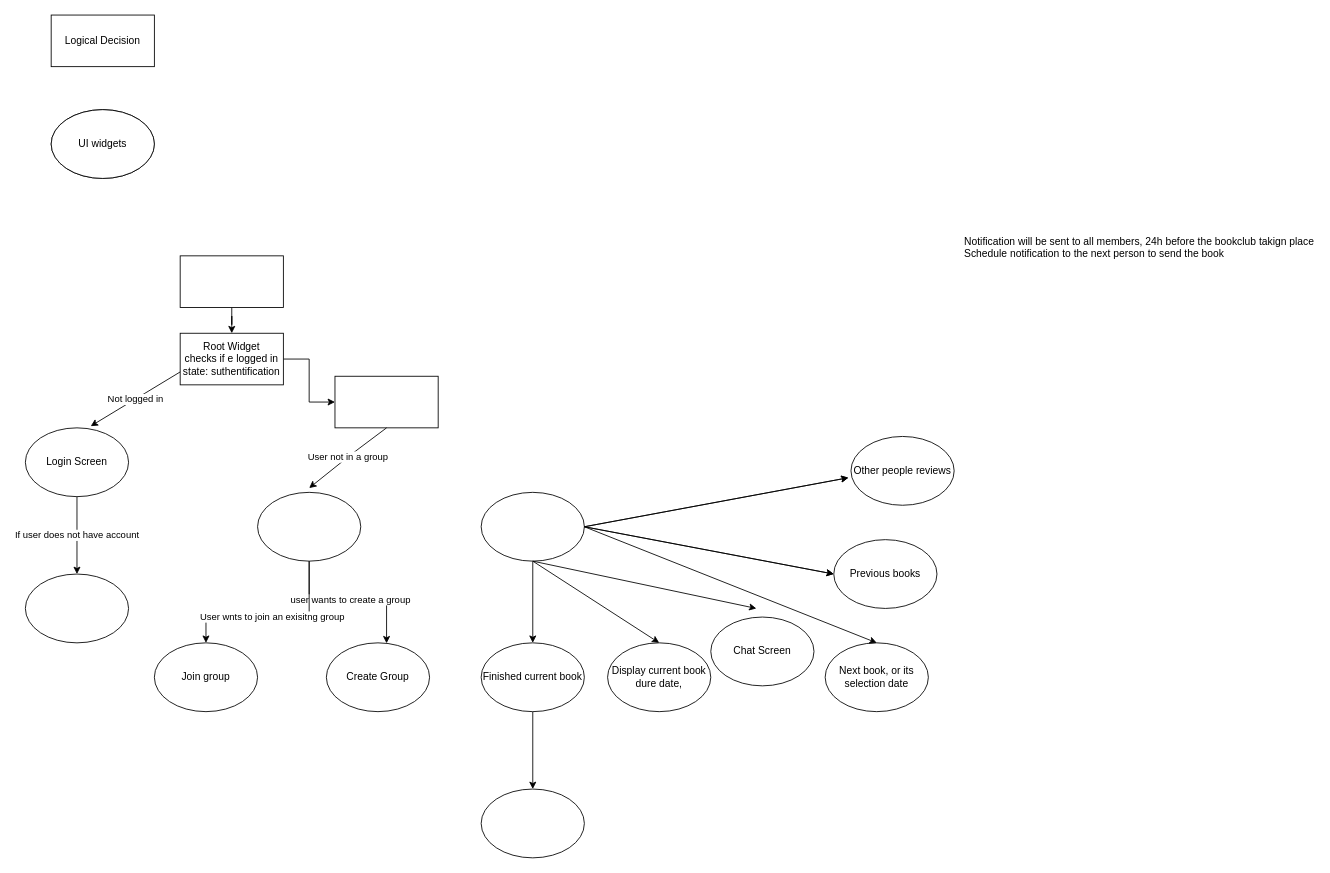
The diagram is 1330 pixels wide and 873 high, and some of its shapes have lost their labels. Here are the shapes that lost their labels. From the top down, the box of each, then its label:
(179, 255, 283, 307): My App
(334, 375, 438, 428): Logged in State State -wherther the user in a group
(257, 491, 361, 561): Join/create group
(480, 491, 584, 561): Group Screen
(25, 573, 129, 643): Create user screen
(480, 788, 584, 858): Give rating and review book
